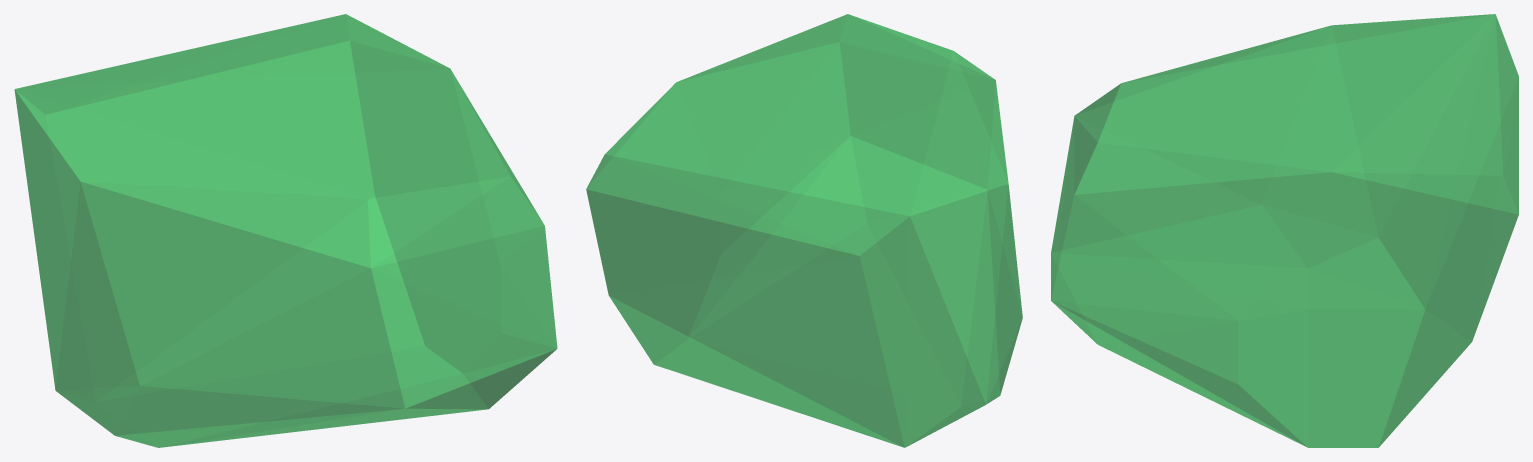
3 renders of one model, left to right at view 1: azimuth 30°, elevation 25°; view 2: azimuth 150°, elevation 25°; view 3: azimuth 270°, elevation 25°, orthographic. The views are drawn at different scales.
Parts seen in each view (by area): view 1: Shape_IndexedFaceSet.001_Shape_IndexedFaceSet.17563; view 2: Shape_IndexedFaceSet.001_Shape_IndexedFaceSet.17563; view 3: Shape_IndexedFaceSet.001_Shape_IndexedFaceSet.17563.
Part boxes in pixels (x1=…): Shape_IndexedFaceSet.001_Shape_IndexedFaceSet.17563: x1=14, y1=14, x2=557, y2=447; Shape_IndexedFaceSet.001_Shape_IndexedFaceSet.17563: x1=586, y1=14, x2=1022, y2=447; Shape_IndexedFaceSet.001_Shape_IndexedFaceSet.17563: x1=1051, y1=14, x2=1518, y2=447.
Size of the model in its own units: 0.0688 by 0.0526 by 0.0809.
